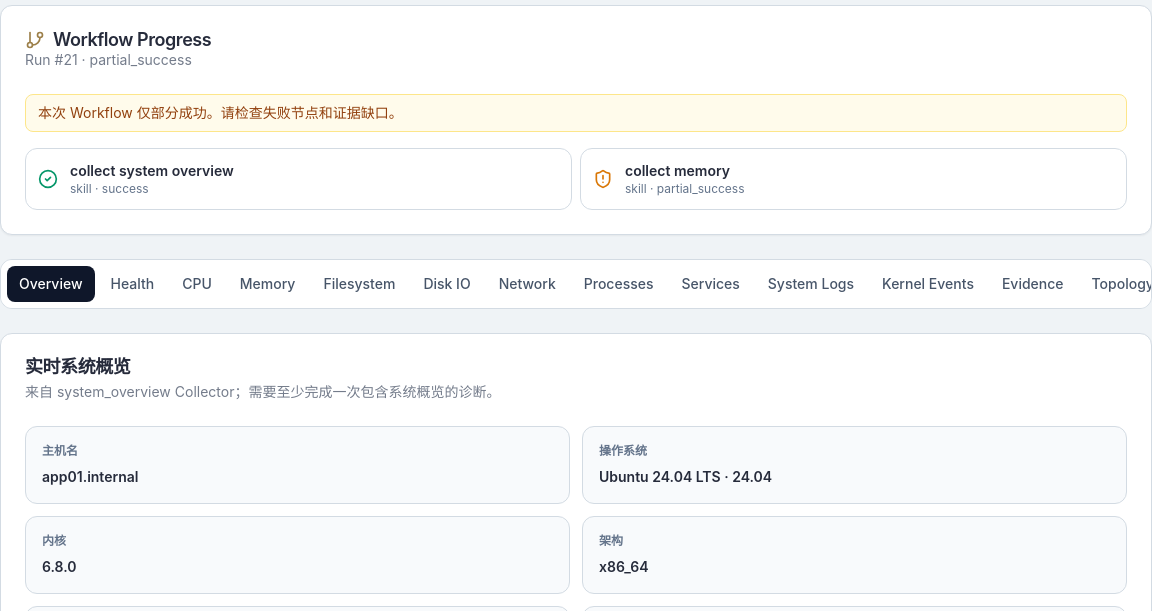
Scenario: LinuxAnalysisPage › creates an incident with current host evidence and events
(page scrolled)
Click the button "Evidence" at (1033, 284), box [990, 266, 1076, 302]
(page scrolled)
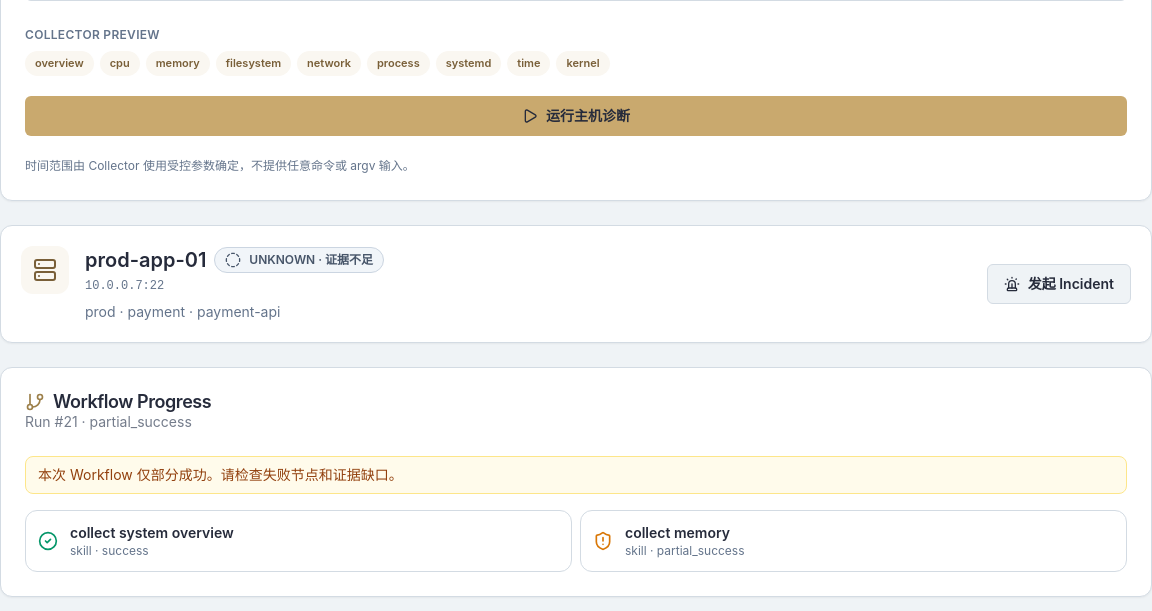
Click the button "发起 Incident" at (1059, 284), box [987, 264, 1131, 304]
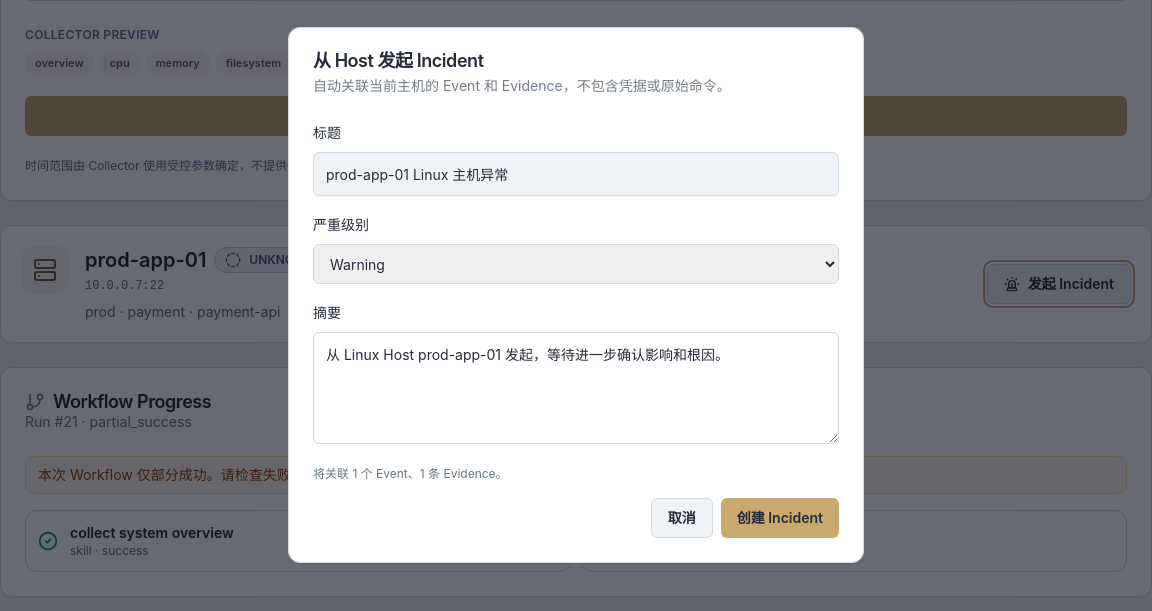
Click the button "创建 Incident" at (780, 518), box [721, 498, 839, 538]
(page scrolled)
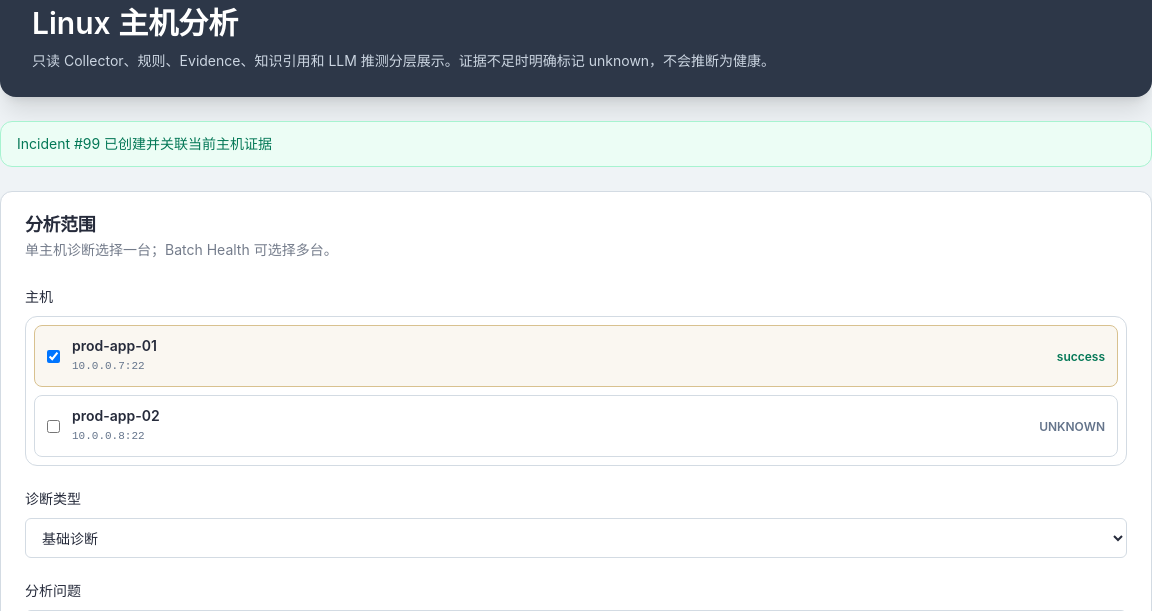
Result: the text "Incident #99 已创建并关联当前主机证据" is shown at [0, 121, 1151, 167]
